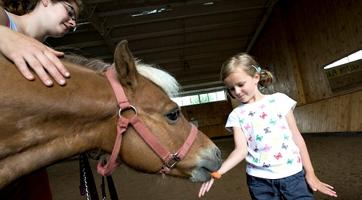person: (197, 53, 339, 200)
